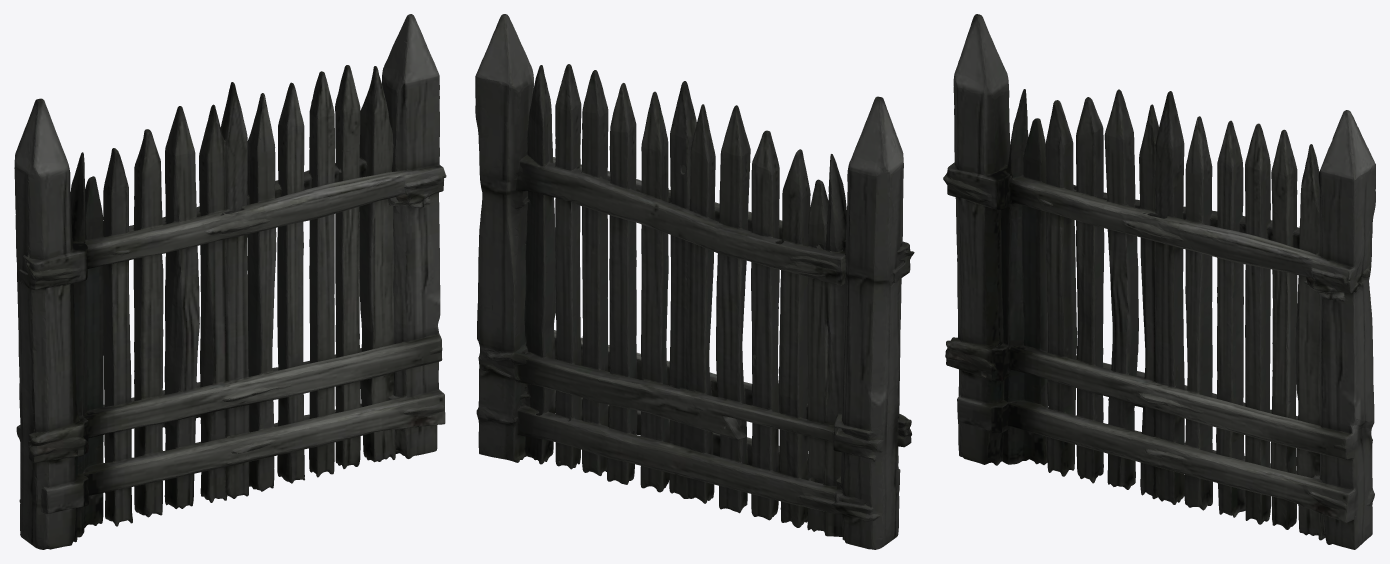
The model's file is bog_barricade_01.glb.
3 views of the same model, side by side, from view 1: azimuth 30°, elevation 25°; view 2: azimuth 150°, elevation 25°; view 3: azimuth 330°, elevation 25° (orthographic).
Visible parts, largest first — view 1: geometry_0; view 2: geometry_0; view 3: geometry_0.
Part boxes in pixels (box(x1,y1,x2,y2)): geometry_0: box(14, 14, 446, 549); geometry_0: box(475, 14, 914, 549); geometry_0: box(943, 14, 1375, 549).
Size of the model in its own units: 0.9756 by 1 by 0.1277.
Materials: 1 (1 with a texture image).
